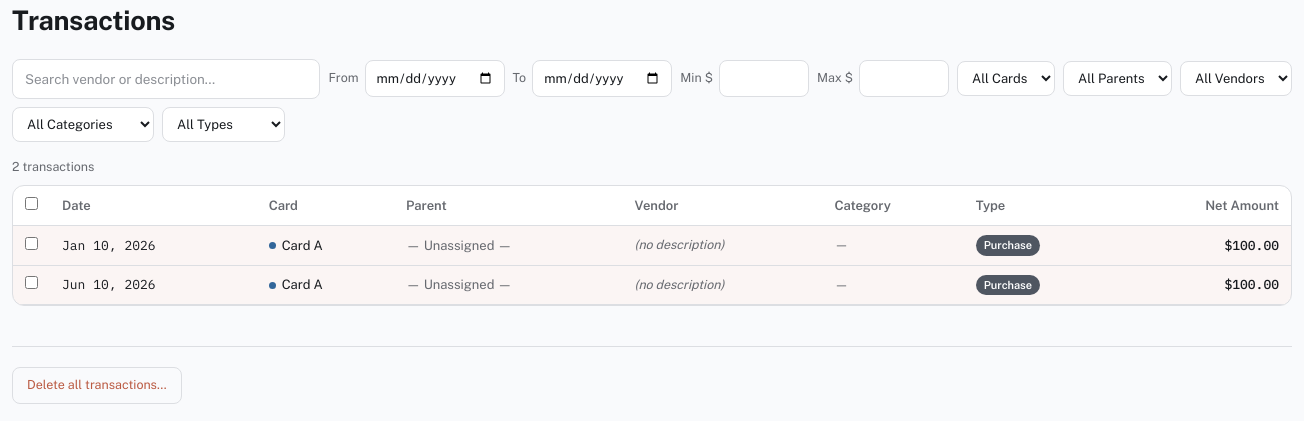
Test: Transactions reset filters › clears every active filter back to its default in one click
Step 1. Type "something" into the field with placeholder "Search vendor or description…" → (166, 79), box [12,58,320,99]
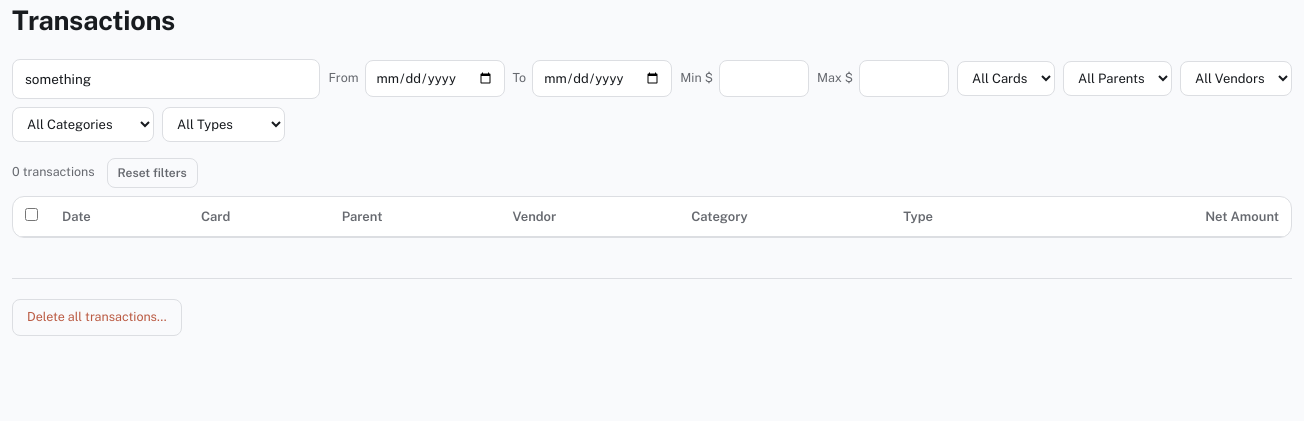
Step 2. Type "2026-03-01" into the date field labelled "From" → (434, 79), box [364,60,504,97]
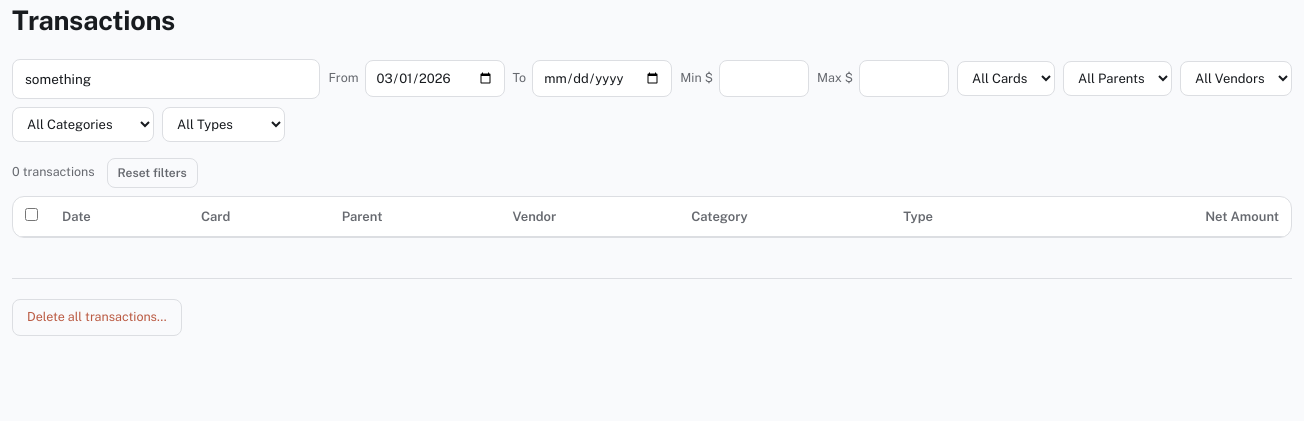
Check: the text "0 transactions" is shown, box [12,163,94,182]
Step 3. Click the button "Reset filters" → (152, 173), box [106,158,198,188]
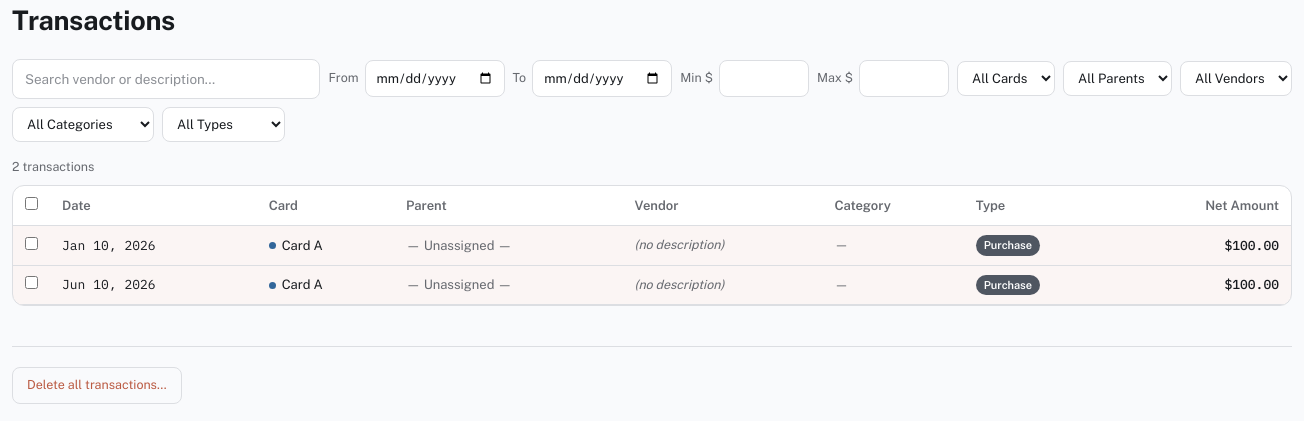
Check: the text "2 transactions" is shown, box [12,158,94,177]
Check: the field with placeholder "Search vendor or description…" is empty, box [12,58,320,99]
Check: the date field labelled "From" is empty, box [364,60,504,97]
